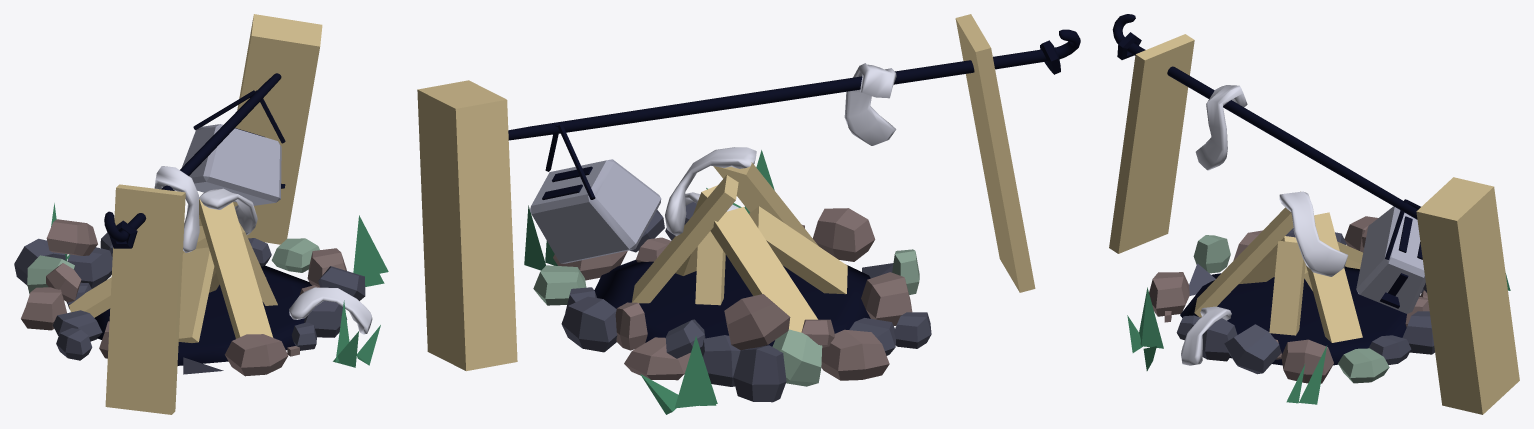
The model's file is fire_export.fbx.
3 renders of one model, left to right at view 1: azimuth 30°, elevation 25°; view 2: azimuth 150°, elevation 25°; view 3: azimuth 270°, elevation 25°, orthographic. The views are drawn at different scales.
Parts seen in each view (by area): view 1: pCube19, pCube20, pCube29, pCube4, pCube34, pCube6, pTorus2, pCube16, pCube28, pCube26, pCube23, pCube10 (+23 smaller); view 2: pCube20, pCube29, pCube34, pCube19, pTorus2, pCube2, pCube6, pCube3, pCube26, pCube10, pCube23, pCube25 (+20 smaller); view 3: pCube20, pCube19, pCube34, pCube29, pTorus2, pCube3, pCube5, pCube4, pCube27, pCube26, pCube51, pCube50 (+13 smaller).
Boxes of the visible parts, x1=… form: pCube19: x1=105, y1=184, x2=185, y2=414; pCube20: x1=233, y1=14, x2=322, y2=244; pCube29: x1=182, y1=124, x2=281, y2=205; pCube4: x1=199, y1=199, x2=273, y2=338; pCube34: x1=94, y1=265, x2=311, y2=365; pCube6: x1=178, y1=247, x2=214, y2=342; pTorus2: x1=104, y1=73, x2=281, y2=242; pCube16: x1=225, y1=334, x2=288, y2=376; pCube28: x1=289, y1=287, x2=372, y2=334; pCube26: x1=154, y1=166, x2=199, y2=252; pCube23: x1=46, y1=219, x2=97, y2=255; pCube10: x1=21, y1=287, x2=66, y2=330; pCube20: x1=417, y1=80, x2=517, y2=371; pCube29: x1=530, y1=159, x2=661, y2=263; pCube34: x1=594, y1=254, x2=870, y2=346; pCube19: x1=955, y1=14, x2=1035, y2=292; pTorus2: x1=508, y1=29, x2=1080, y2=140; pCube2: x1=710, y1=207, x2=817, y2=332; pCube6: x1=749, y1=206, x2=847, y2=294; pCube3: x1=632, y1=175, x2=738, y2=303; pCube26: x1=844, y1=63, x2=896, y2=145; pCube10: x1=821, y1=329, x2=889, y2=380; pCube23: x1=724, y1=294, x2=790, y2=350; pCube25: x1=733, y1=345, x2=786, y2=402; pCube20: x1=1416, y1=177, x2=1519, y2=414; pCube19: x1=1109, y1=34, x2=1194, y2=253; pCube34: x1=1180, y1=266, x2=1419, y2=365; pCube29: x1=1356, y1=206, x2=1425, y2=313; pTorus2: x1=1112, y1=14, x2=1417, y2=219; pCube3: x1=1306, y1=212, x2=1362, y2=342; pCube5: x1=1269, y1=241, x2=1305, y2=335; pCube4: x1=1194, y1=191, x2=1300, y2=317; pCube27: x1=1279, y1=191, x2=1348, y2=276; pCube26: x1=1195, y1=85, x2=1247, y2=170; pCube51: x1=1224, y1=324, x2=1281, y2=374; pCube50: x1=1281, y1=339, x2=1333, y2=383.
Size of the model in its own units: 2.14 by 1.21 by 1.97.
